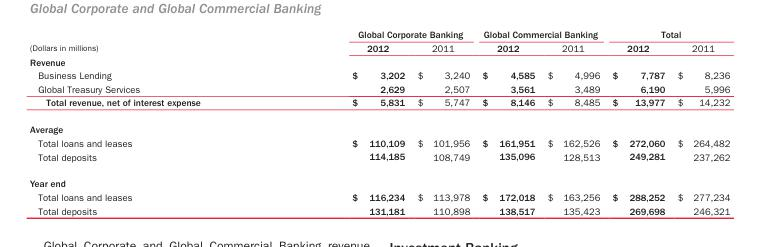table: (29, 28, 729, 216)
table column: (29, 28, 275, 216), (275, 28, 410, 216), (410, 28, 475, 216), (475, 28, 540, 216), (540, 28, 605, 216), (605, 28, 670, 216), (670, 28, 729, 216)
table column header: (29, 28, 729, 54)
table projected row header: (29, 169, 729, 190), (29, 115, 729, 135), (29, 54, 729, 68)
table row: (29, 169, 729, 190), (29, 95, 729, 115), (29, 115, 729, 135), (29, 149, 729, 169), (29, 40, 729, 54), (29, 54, 729, 68), (29, 81, 729, 95), (29, 135, 729, 149), (29, 68, 729, 81), (29, 190, 729, 203), (29, 203, 729, 216), (29, 28, 729, 40)
table spanning cell: (29, 28, 275, 54), (275, 28, 475, 40), (475, 28, 605, 40), (605, 28, 729, 40)
